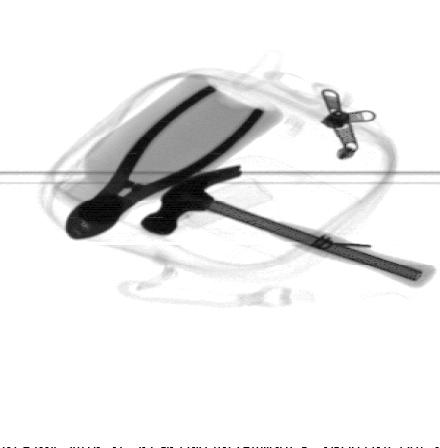Hammer: (140, 164, 439, 290)
Pliers: (64, 84, 266, 241)
